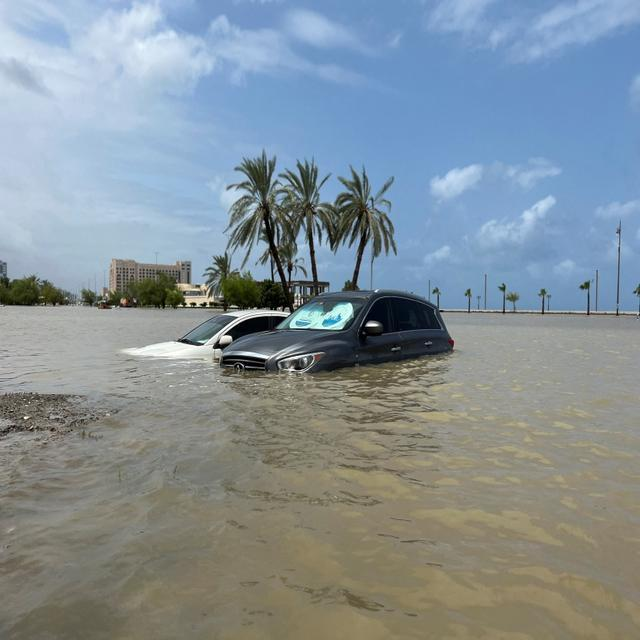Car-RiskLevel3: (215, 285, 490, 381), (122, 301, 308, 368)
